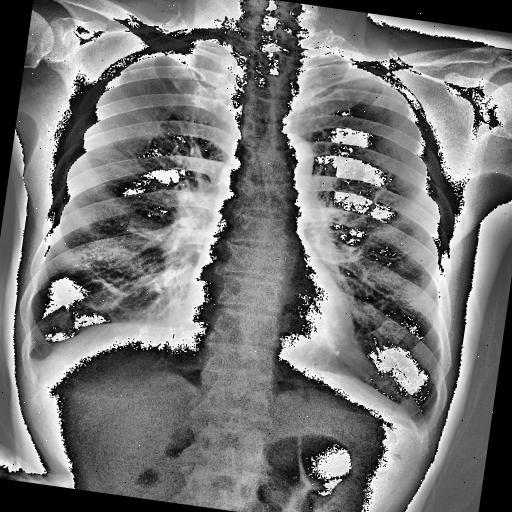0- Aortic enlargement: (256, 130, 316, 186)
10- Pleural effusion: (22, 346, 48, 378), (409, 410, 430, 442)
11- Pleural thickening: (22, 332, 68, 379), (160, 32, 216, 59), (408, 416, 438, 448), (24, 354, 50, 388), (22, 346, 48, 378), (409, 410, 430, 442), (409, 417, 431, 444)
13- Pulmonary fibrosis: (304, 164, 390, 240), (66, 264, 135, 324), (334, 246, 368, 268)
